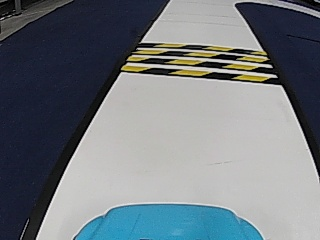bump: (140, 42, 260, 83)
